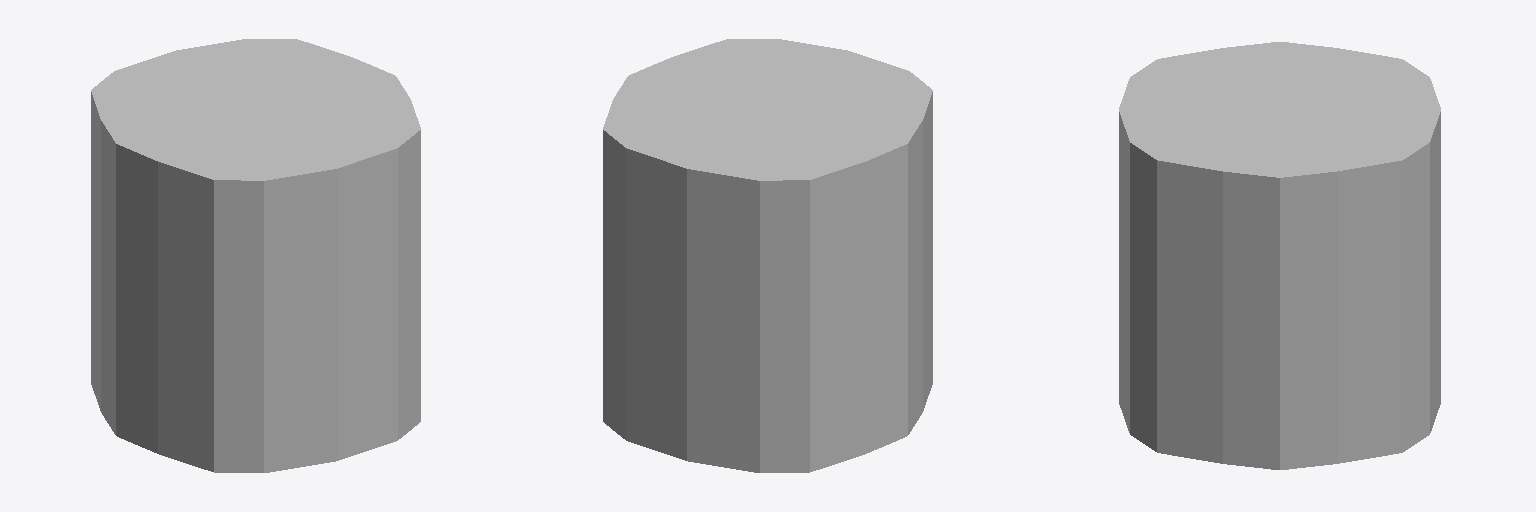
Rendered from types_cylinder.obj.
3 views of the same model, side by side, from view 1: azimuth 30°, elevation 25°; view 2: azimuth 150°, elevation 25°; view 3: azimuth 270°, elevation 25° (orthographic).
Visible parts, largest first — view 1: Cube; view 2: Cube; view 3: Cube.
Part boxes in pixels (bbox=[...]): Cube: bbox=[91, 39, 420, 472]; Cube: bbox=[603, 39, 932, 472]; Cube: bbox=[1119, 42, 1440, 469].
Bounding box in the file's own units: 2 × 2 × 2.